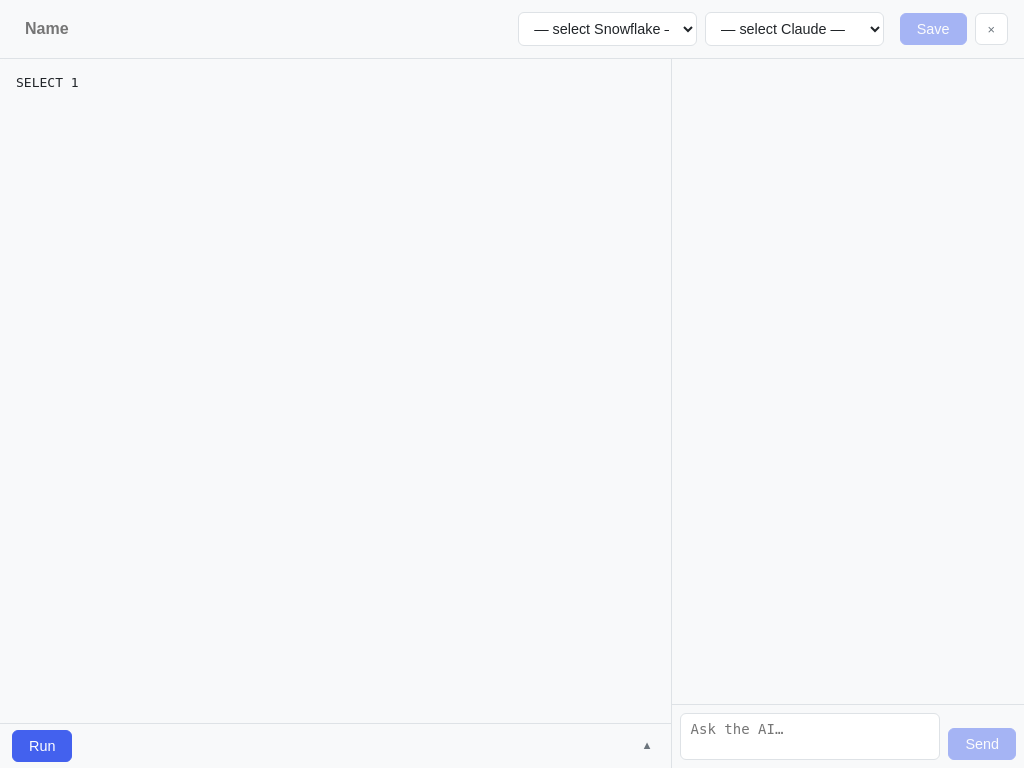
Scenario: DatasetDialog › should show inline error and clear table on Snowflake error (422)
The image size is (1024, 768).
Click the button "Run". click: {"x": 42, "y": 746}
box: [12,730,72,762]
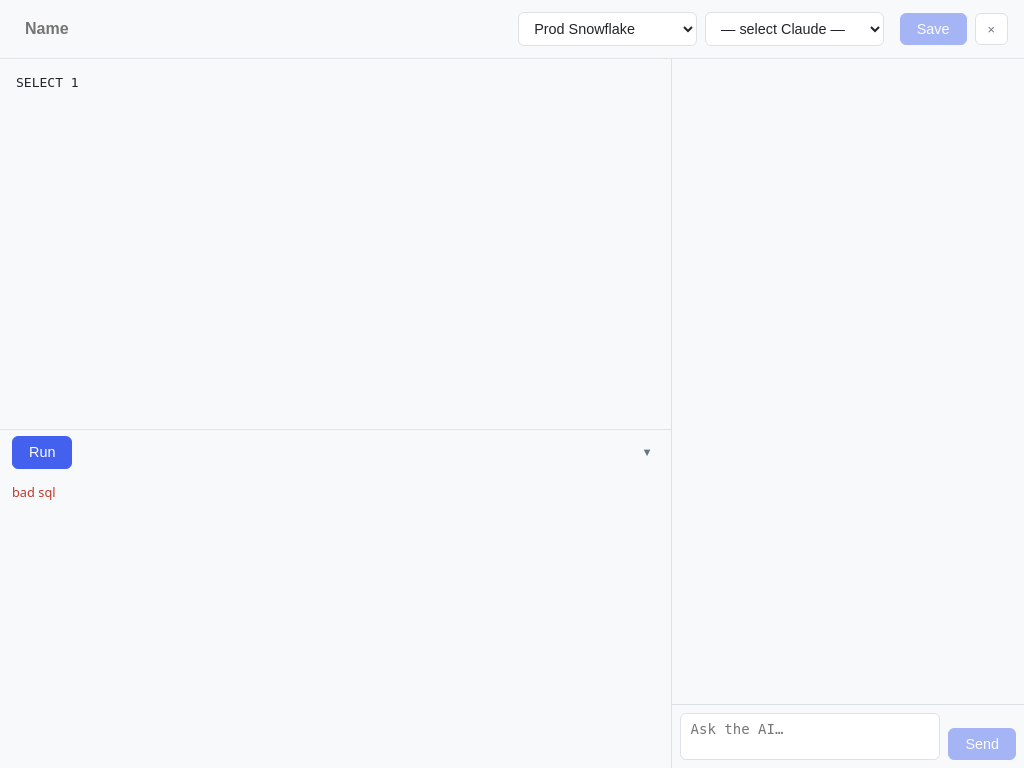
Check: the text with test id "run-error" reads "bad sql", box [12,483,56,501]
